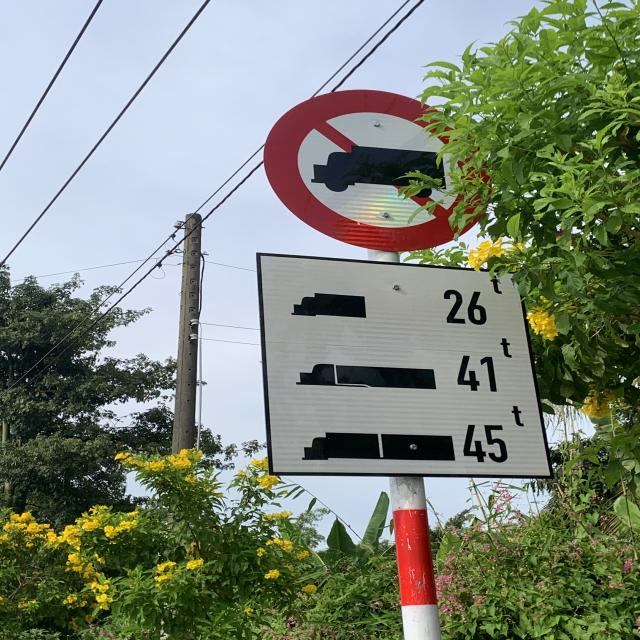Cam_Xe_Tai: (256, 89, 498, 251)
